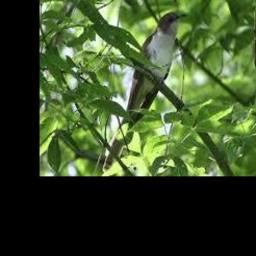Cuckoo: (102, 12, 186, 173)
